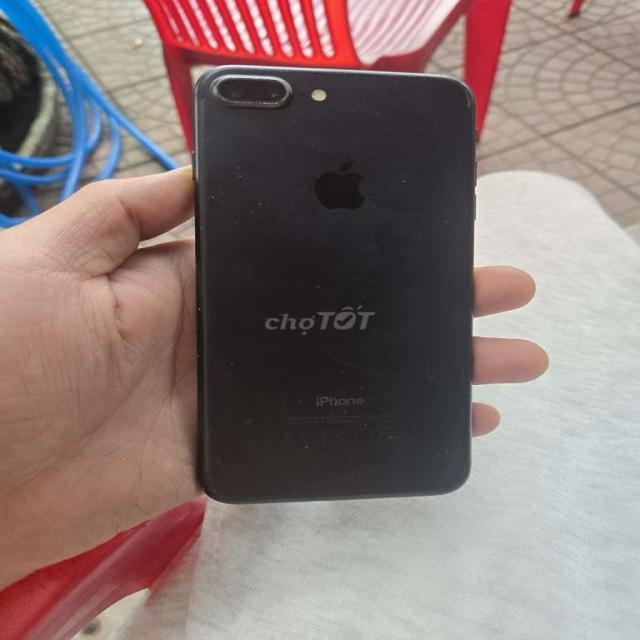gen_7_8: (185, 56, 493, 506)
scratch: (355, 418, 460, 467), (321, 349, 472, 380), (209, 70, 293, 108), (222, 161, 276, 218), (289, 384, 369, 416), (317, 64, 432, 82), (455, 78, 477, 110), (423, 207, 452, 226), (273, 138, 291, 162), (293, 439, 312, 452), (366, 104, 383, 118), (391, 172, 410, 184), (242, 407, 252, 429), (194, 214, 205, 233), (458, 308, 472, 322), (312, 276, 328, 288), (355, 290, 374, 300), (189, 146, 200, 162), (222, 361, 236, 371), (332, 212, 346, 220), (440, 277, 451, 285), (194, 304, 203, 313), (205, 190, 216, 197), (313, 170, 320, 176)
